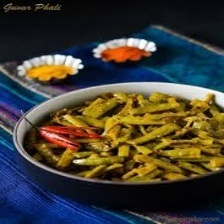sabzi: (22, 91, 224, 181)
